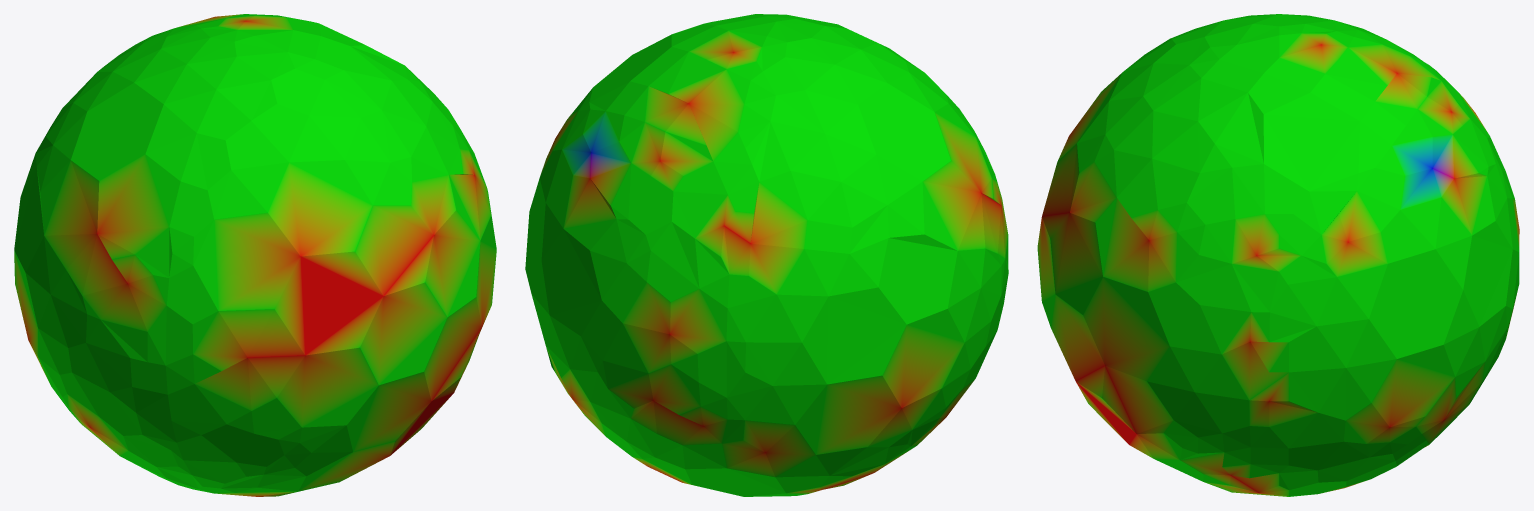
The model's file is after_cleaning_reconquest_7.obj.
The picture shows the model from 3 angles, left to right: view 1: azimuth 30°, elevation 25°; view 2: azimuth 150°, elevation 25°; view 3: azimuth 270°, elevation 25°; orthographic projection.
Bounding box in the file's own units: 1.99 × 2 × 1.99.
